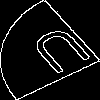U: (25, 25, 100, 84)
